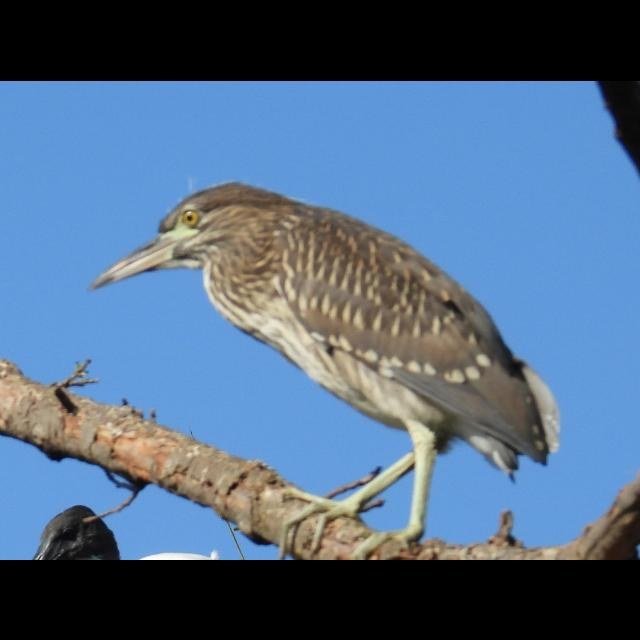heron: (88, 182, 554, 534)
